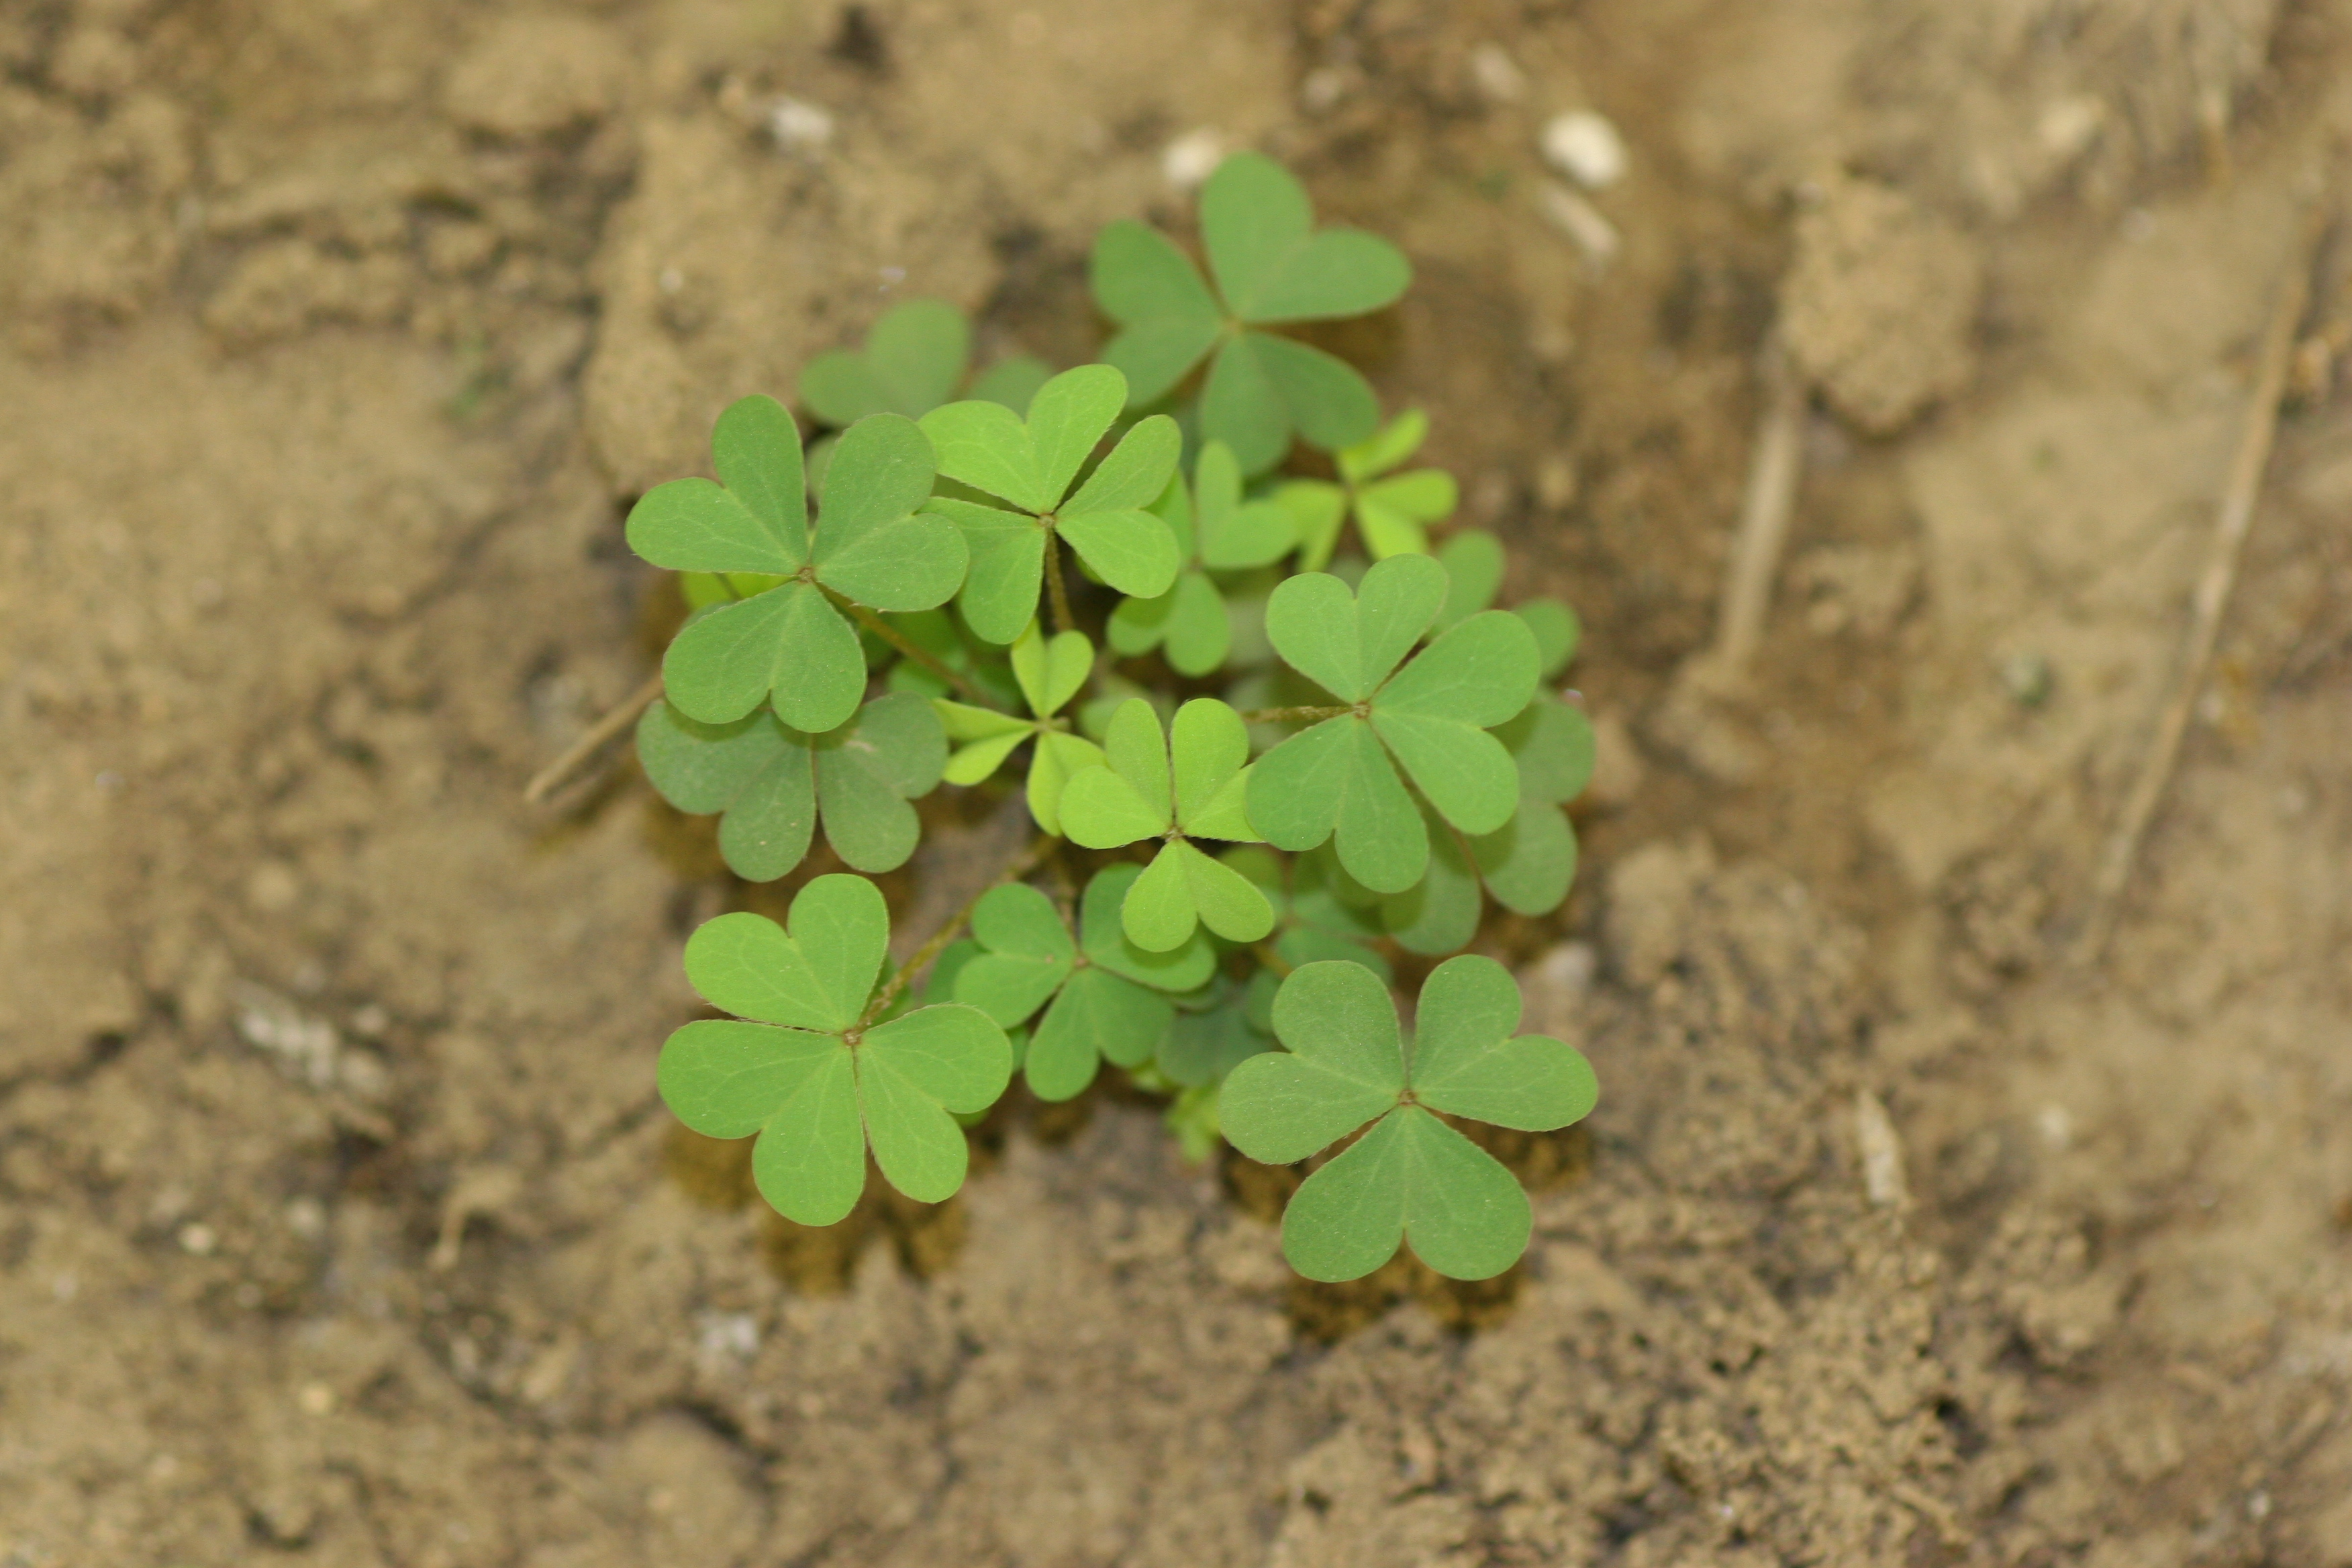oxalis: (518, 254, 1732, 1330)
